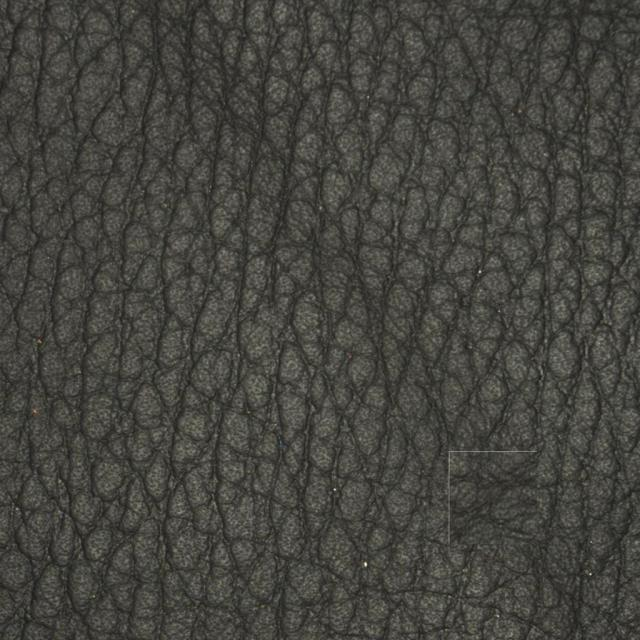Healed Injury: (431, 358, 575, 577)
